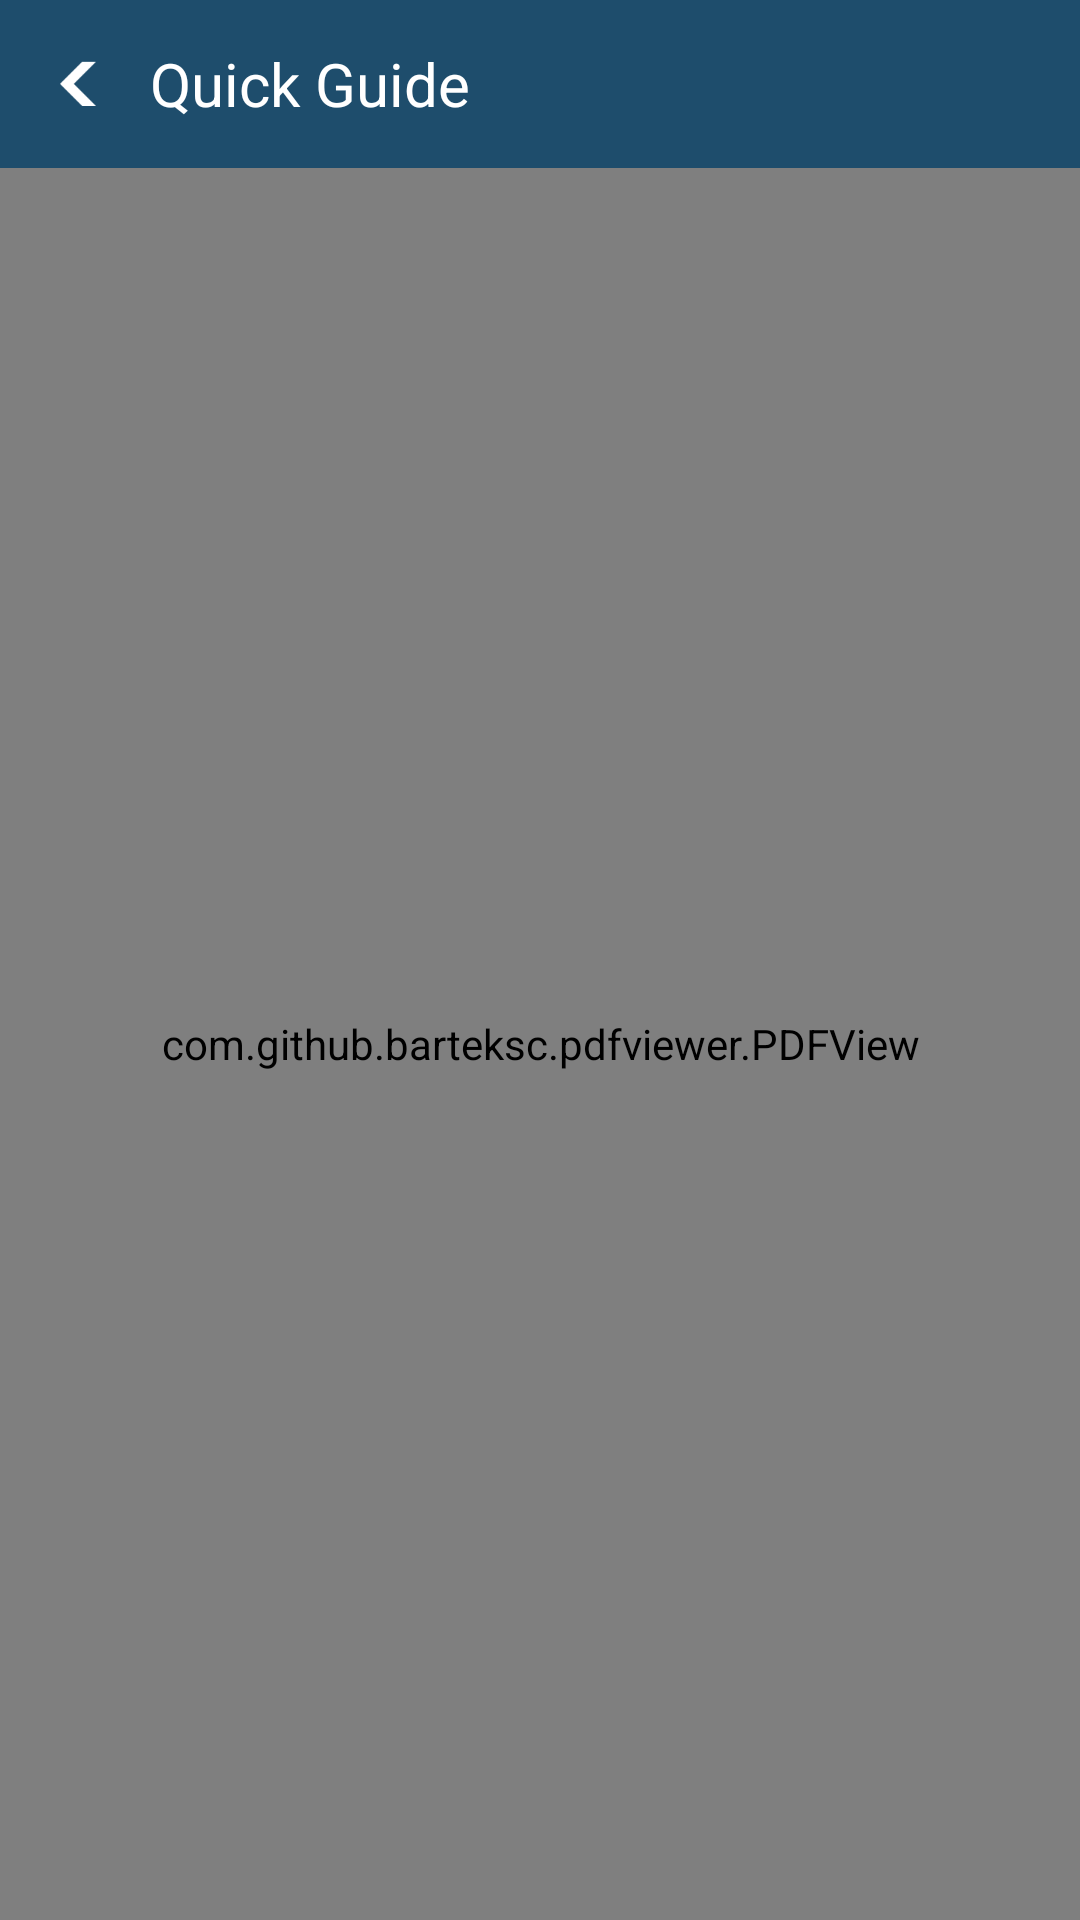

Named icons in this screenshot (1080px x 1920px) and their centers, [x,y]:
back: [78,83]
